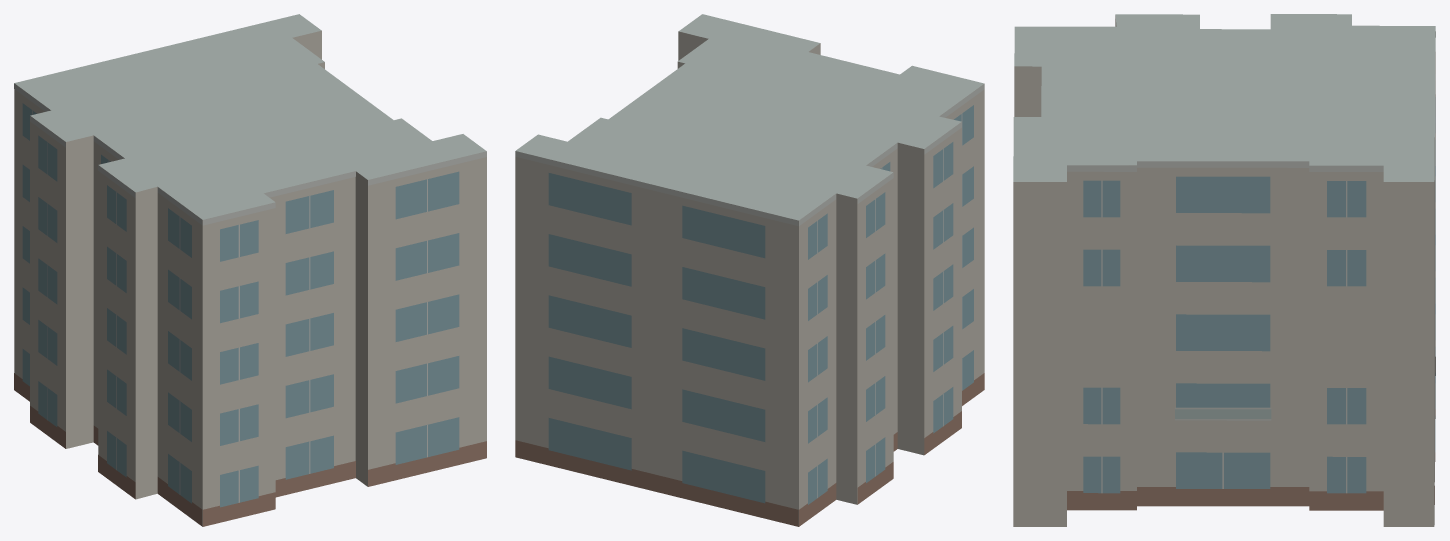
File: survey-upis-32872918.glb
The picture shows the model from 3 angles, left to right: view 1: azimuth 30°, elevation 25°; view 2: azimuth 150°, elevation 25°; view 3: azimuth 270°, elevation 25°; orthographic projection. The views are drawn at different scales.
Parts seen in each view (by area): view 1: survey-upis-32872918.tmp; view 2: survey-upis-32872918.tmp; view 3: survey-upis-32872918.tmp.
Boxes of the visible parts, bbox=[...] form: survey-upis-32872918.tmp: bbox=[14, 14, 486, 526]; survey-upis-32872918.tmp: bbox=[515, 14, 984, 526]; survey-upis-32872918.tmp: bbox=[1013, 14, 1435, 526].
Bounding box in the file's own units: 13.58 × 13 × 14.44.
